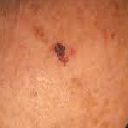Carcinoma: (53, 38, 71, 67)
